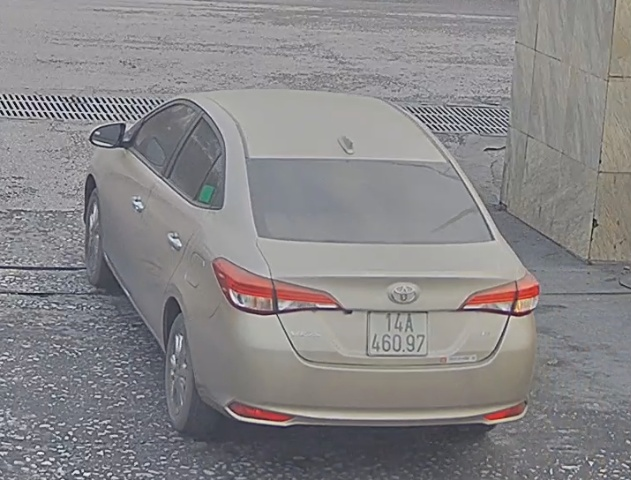vehicle plate: (365, 305, 428, 361)
